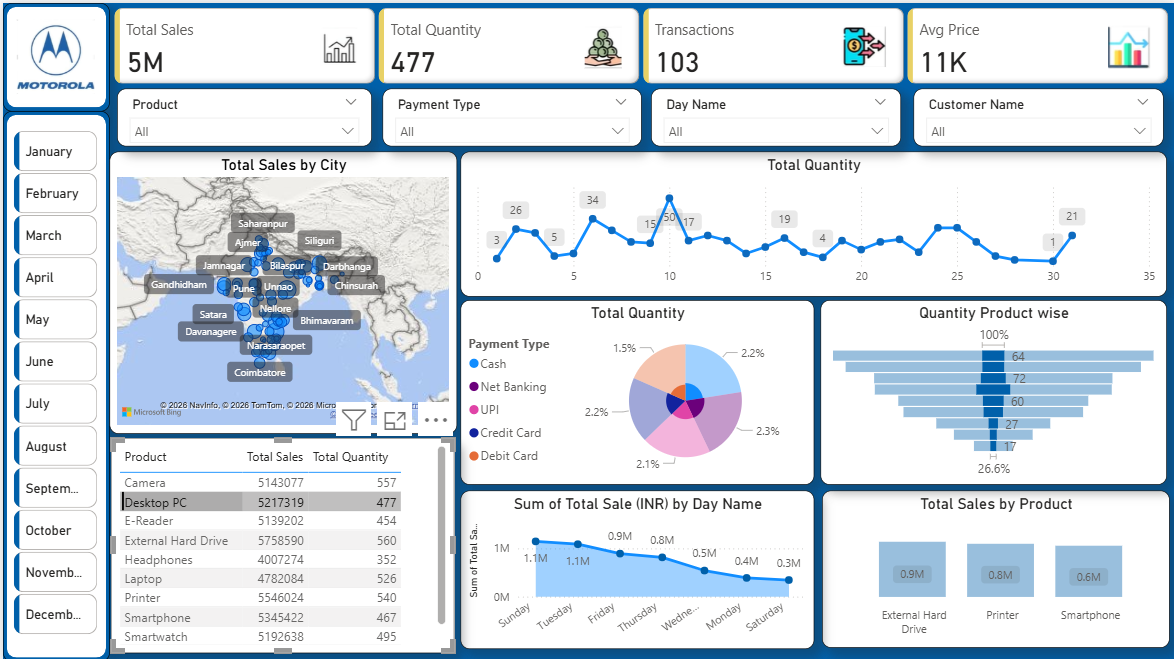

The dashboard page shown, as its layout file describes it:
{"tool":"powerbi","page":{"name":"Page 1","canvas":[1280,720],"ordinal":0},"visuals":[{"type":"shape","box":[0,0,116.7,118.3],"z":0},{"type":"image","box":[10,11.7,95,95],"z":1000},{"type":"shape","box":[0,118.3,116.7,601.7],"z":1001},{"type":"advancedSlicerVisual","fields":{"Values":["Sales_Data.Sales Date.Variation.Date Hierarchy.Month"]},"box":[6.7,135,101.7,570],"z":1002},{"type":"cardVisual","fields":{"Data":["Sales_Data.Total Sales","Sales_Data.Total Quantity","Sales_Data.Transactions","Sales_Data.Avg Price"]},"box":[116.7,0,1163.3,93.3],"z":1003},{"type":"map","fields":{"Category":["Sales_Data.City"],"Size":["Sales_Data.Total Sales"]},"box":[116.7,161.7,380,308.3],"z":1004},{"type":"lineChart","title":"Total Quantity","fields":{"Category":["Sales_Data.Sales Date.Variation.Date Hierarchy.Month","Sales_Data.Sales Date.Variation.Date Hierarchy.Day"],"Y":["Sales_Data.Total Quantity"]},"box":[500,161.7,771.7,158.3],"z":1005},{"type":"clusteredColumnChart","title":"Total Sales by Product","fields":{"Y":["Sum(Sales_Data.Total Sale (INR))"],"Category":["Sales_Data.Product"]},"box":[895,533.3,380,171.7],"z":1006},{"type":"pieChart","title":"Total Quantity","fields":{"Category":["Sales_Data.Payment Type"],"Y":["Sales_Data.Transactions"]},"box":[500,325,386.7,201.7],"z":1007},{"type":"funnel","title":"Quantity Product wise","fields":{"Category":["Sales_Data.Quantity"],"Y":["Sum(Sales_Data.Quantity)"]},"box":[893.3,325,378.3,201.7],"z":1008},{"type":"areaChart","fields":{"Category":["Sales_Data.Day Name"],"Y":["Sum(Sales_Data.Total Sale (INR))"]},"box":[500,533.3,386.7,173.3],"z":1009},{"type":"tableEx","title":"Total Quantity","fields":{"Values":["Sales_Data.Product","Sales_Data.Total Sales","Sales_Data.Total Quantity"]},"box":[118.3,475,375,235],"z":1010},{"type":"slicer","fields":{"Values":["Sales_Data.Product"]},"box":[125,93.3,278.3,63.3],"z":1011},{"type":"slicer","fields":{"Values":["Sales_Data.Payment Type"]},"box":[415,93.3,283.3,63.3],"z":1012},{"type":"slicer","fields":{"Values":["Sales_Data.Day Name"]},"box":[708.3,93.3,273.3,63.3],"z":1013},{"type":"slicer","fields":{"Values":["Sales_Data.Customer Name"]},"box":[995,93.3,273.3,63.3],"z":1014}]}

Visuals, with their boxes in screenshot pixels (x1, y1, x2, y2), scaled from the page's 1280x720 canvas onto the 1174x659 screenshot:
shape: (0, 0, 107, 108)
image: (9, 11, 96, 98)
shape: (0, 108, 107, 658)
advancedSlicerVisual - Sales_Data.Sales Date.Variation.Date Hierarchy.Month: (6, 124, 99, 645)
cardVisual - Sales_Data.Total Sales x Sales_Data.Total Quantity: (107, 0, 1173, 85)
map - Sales_Data.City x Sales_Data.Total Sales: (107, 148, 456, 430)
"Total Quantity" lineChart: (459, 148, 1166, 293)
"Total Sales by Product" clusteredColumnChart: (821, 488, 1169, 645)
"Total Quantity" pieChart: (459, 297, 813, 482)
"Quantity Product wise" funnel: (819, 297, 1166, 482)
areaChart - Sales_Data.Day Name x Sum(Sales_Data.Total Sale (INR)): (459, 488, 813, 647)
"Total Quantity" tableEx: (109, 435, 452, 650)
slicer - Sales_Data.Product: (115, 85, 370, 143)
slicer - Sales_Data.Payment Type: (381, 85, 640, 143)
slicer - Sales_Data.Day Name: (650, 85, 900, 143)
slicer - Sales_Data.Customer Name: (913, 85, 1163, 143)
